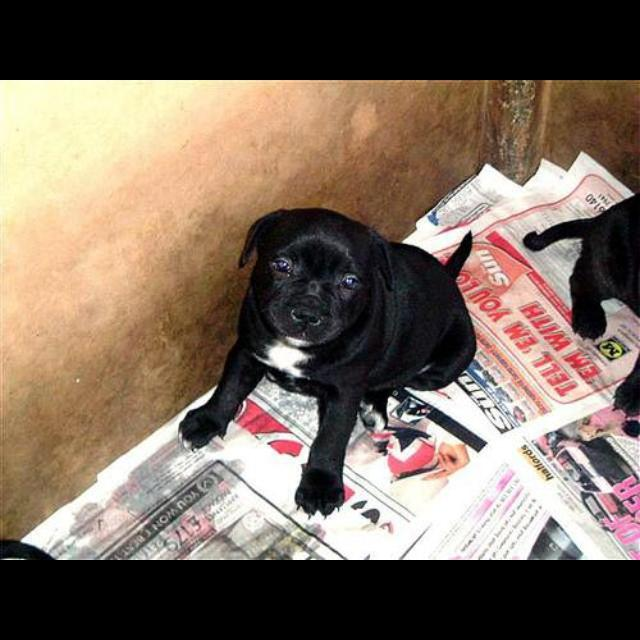staffford: (178, 207, 477, 518), (523, 191, 640, 435)
